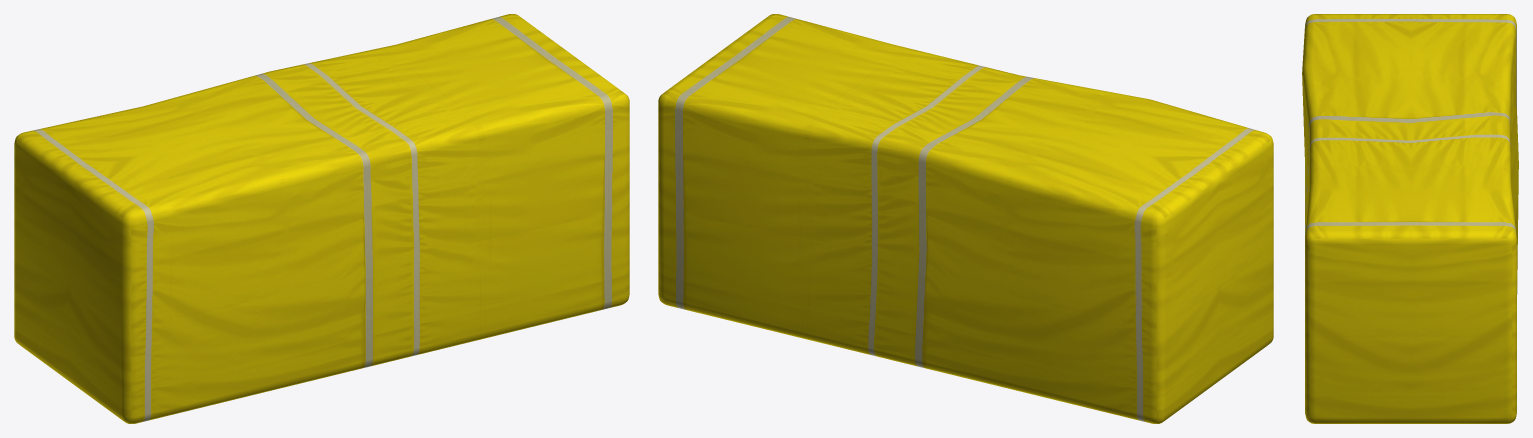
The model's file is SafeBlock_02.FBX.
3 renders of one model, left to right at view 1: azimuth 30°, elevation 25°; view 2: azimuth 150°, elevation 25°; view 3: azimuth 270°, elevation 25°, orthographic. The views are drawn at different scales.
Visible parts, largest first — view 1: SafeBlock_02; view 2: SafeBlock_02; view 3: SafeBlock_02.
Part boxes in pixels (x1,y1,x2,y2): SafeBlock_02: (14,14,629,423); SafeBlock_02: (658,14,1273,423); SafeBlock_02: (1302,14,1518,423).
Bounding box in the file's own units: 1.5 × 0.6245 × 0.6137.
